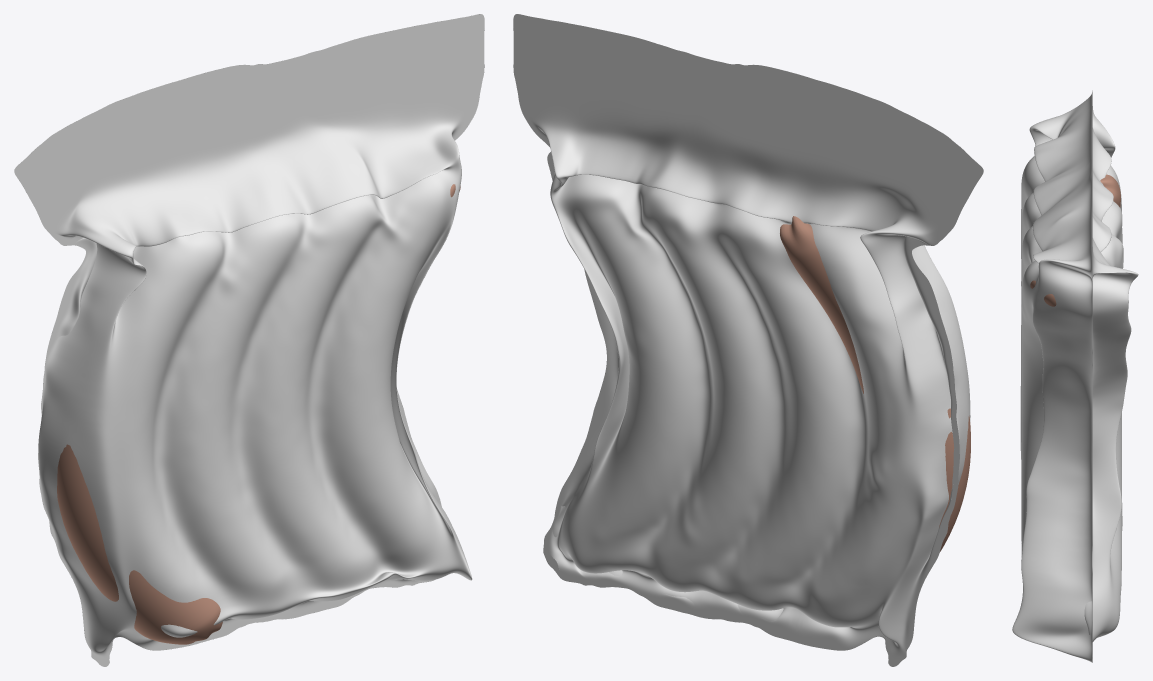
File: Sausagesglb.glb
3 renders of one model, left to right at view 1: azimuth 30°, elevation 25°; view 2: azimuth 150°, elevation 25°; view 3: azimuth 270°, elevation 25°, orthographic. The views are drawn at different scales.
Visible parts, largest first — view 1: Cube.001, pCylinder1_blinn1_0.004; view 2: Cube.001, pCylinder1_blinn1_0.004; view 3: Cube.001, pCylinder1_blinn1_0.004.
Boxes of the visible parts, left/top/right/bottom form: Cube.001: left=14, top=14, right=484, bottom=666; pCylinder1_blinn1_0.004: left=57, top=444, right=222, bottom=644; Cube.001: left=513, top=14, right=983, bottom=666; pCylinder1_blinn1_0.004: left=780, top=216, right=970, bottom=551; Cube.001: left=1012, top=90, right=1138, bottom=662; pCylinder1_blinn1_0.004: left=1100, top=174, right=1120, bottom=207.
Size of the model in its own units: 5.73 by 6.64 by 1.48.
